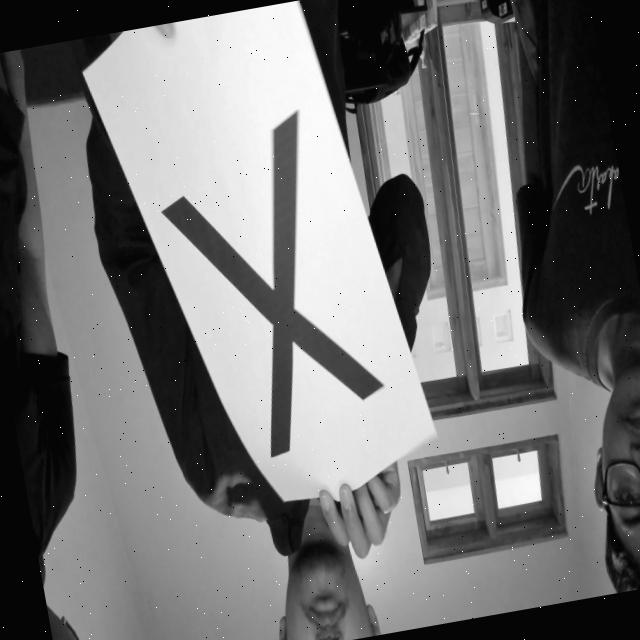x: (120, 78, 411, 494)
